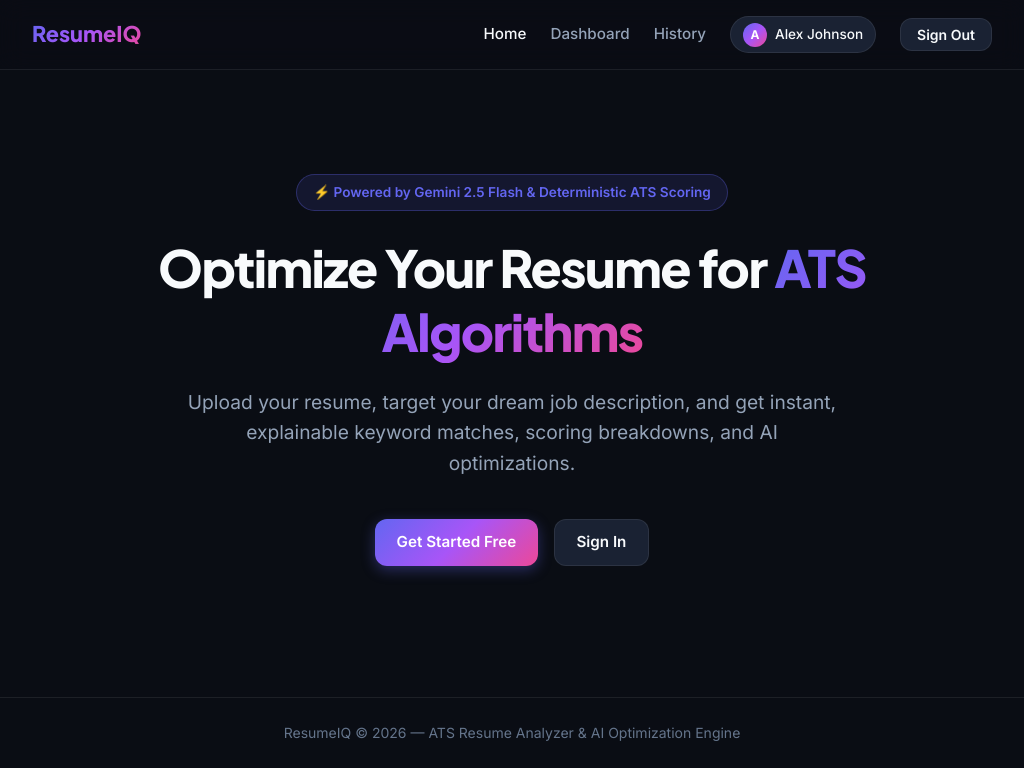
Test case: App component and Header Navigation › renders user badge and handles sign out flow
Expected: the text "Alex Johnson" is shown, [775,24,863,46]
Expected: the link "History" is shown, [654,22,706,47]
# Click Sign Out
Click the button "Sign Out" at (946, 35), box [900,18,992,51]
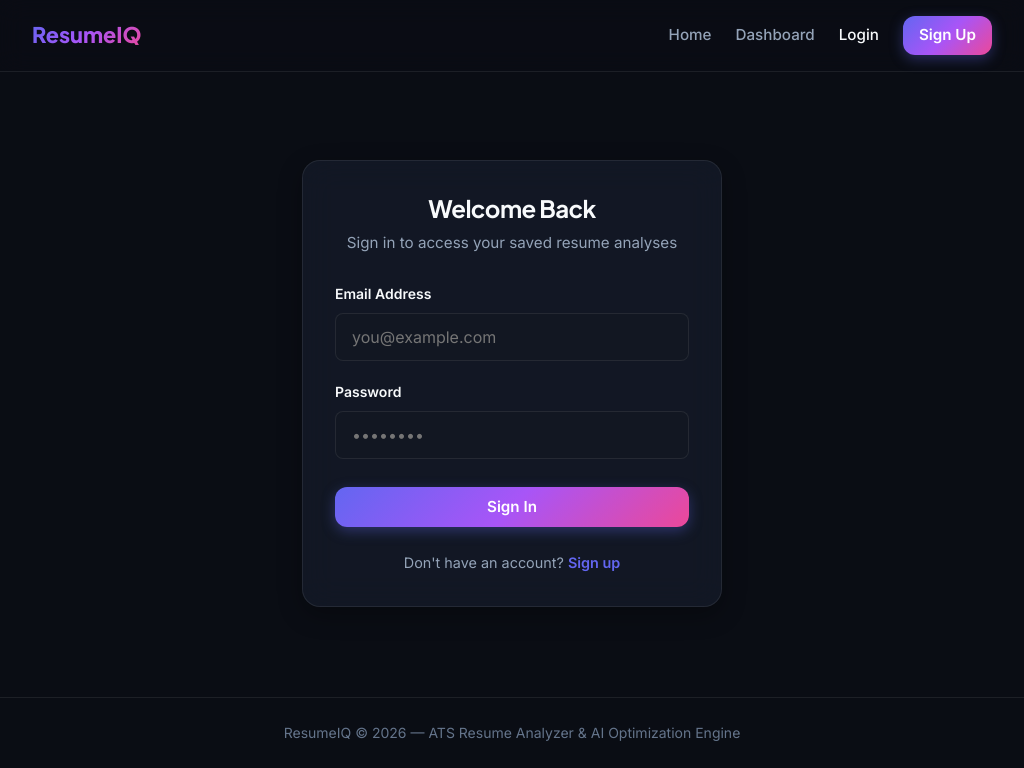
Now the heading "Welcome Back" is shown, box [428,193,596,223]
Now the link "Login" is shown, box [839,23,879,48]
Now the text "Alex Johnson" is gone
